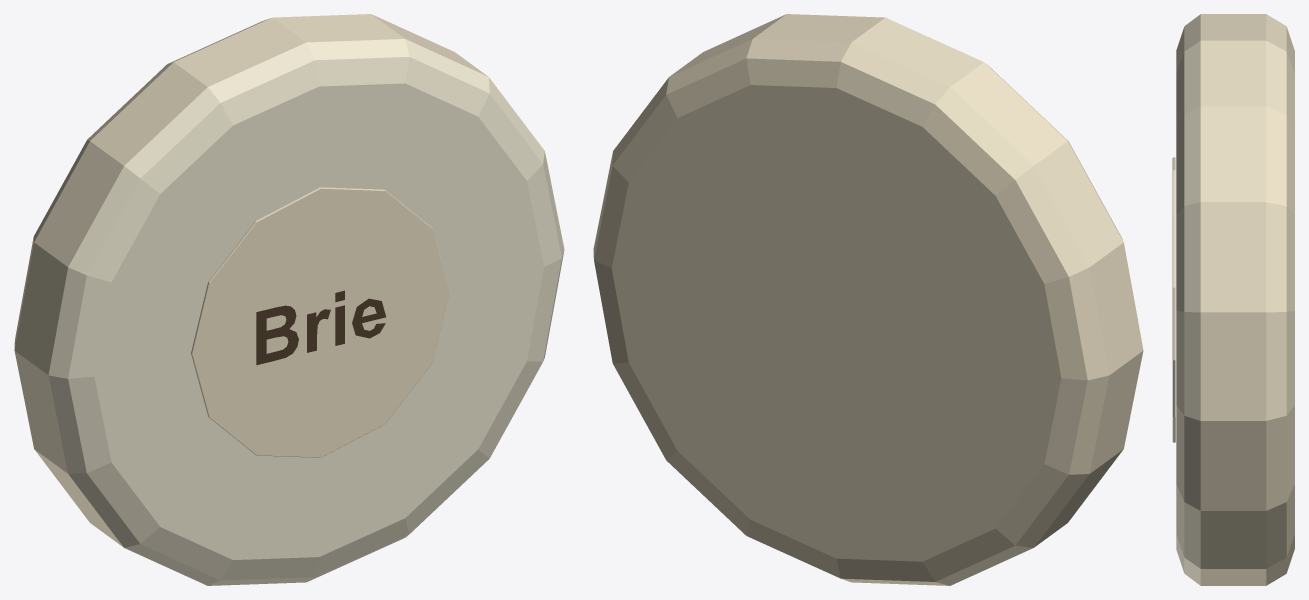
Rendered from brie.glb.
3 renders of one model, left to right at view 1: azimuth 30°, elevation 25°; view 2: azimuth 150°, elevation 25°; view 3: azimuth 270°, elevation 25°, orthographic. The views are drawn at different scales.
Visible parts, largest first — view 1: brie; view 2: brie; view 3: brie.
Part boxes in pixels (x1,y1,x2,y2): brie: (14, 14, 564, 585); brie: (593, 14, 1143, 585); brie: (1172, 14, 1294, 585).
Size of the model in its own units: 0.14 by 0.14 by 0.03.
